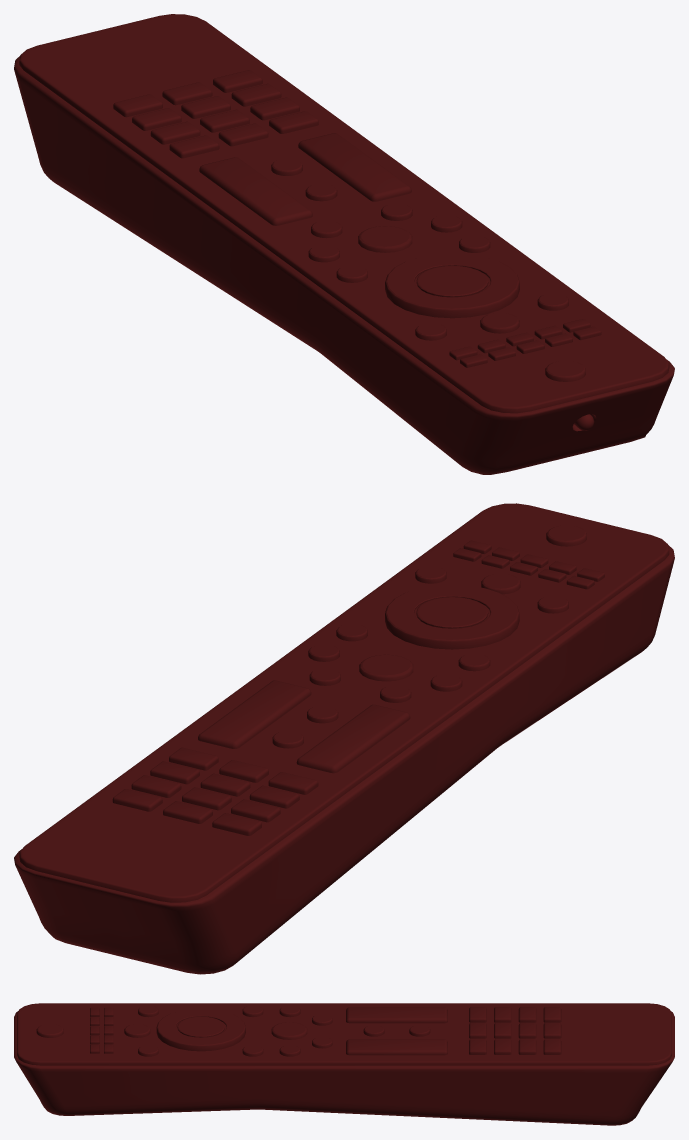
Rendered from Tvremote_Q.FBX.
3 views of the same model, one above another, from view 1: azimuth 30°, elevation 25°; view 2: azimuth 150°, elevation 25°; view 3: azimuth 270°, elevation 25° (orthographic). The views are drawn at different scales.
Parts seen in each view (by area): view 1: Base_low002, Buttons_low002; view 2: Base_low002, Buttons_low002; view 3: Base_low002, Buttons_low002.
Boxes of the visible parts, x1,y1,x2,y2 form: Base_low002: [14, 14, 674, 474]; Buttons_low002: [113, 70, 601, 381]; Base_low002: [14, 503, 674, 974]; Buttons_low002: [112, 525, 604, 835]; Base_low002: [14, 1003, 674, 1125]; Buttons_low002: [36, 1005, 561, 1056].
Size of the model in its own units: 6.01 by 26.66 by 3.23.
